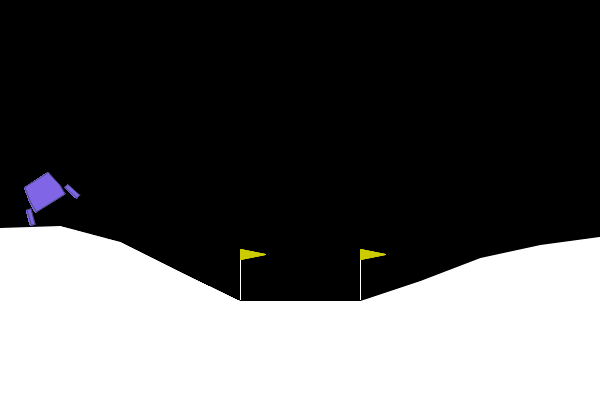lander: (10, 163, 82, 228)
